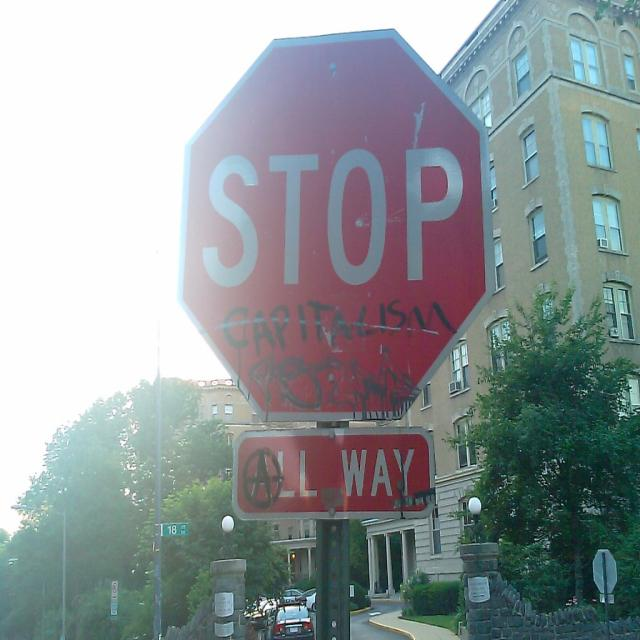Stop-sign: (177, 20, 489, 417)
